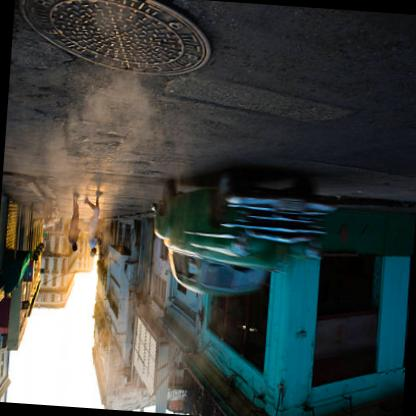manholes: (7, 0, 226, 106)
